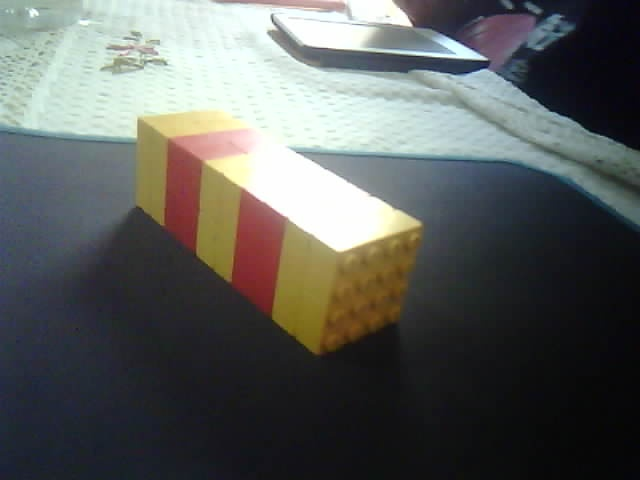lego: (134, 106, 424, 358)
